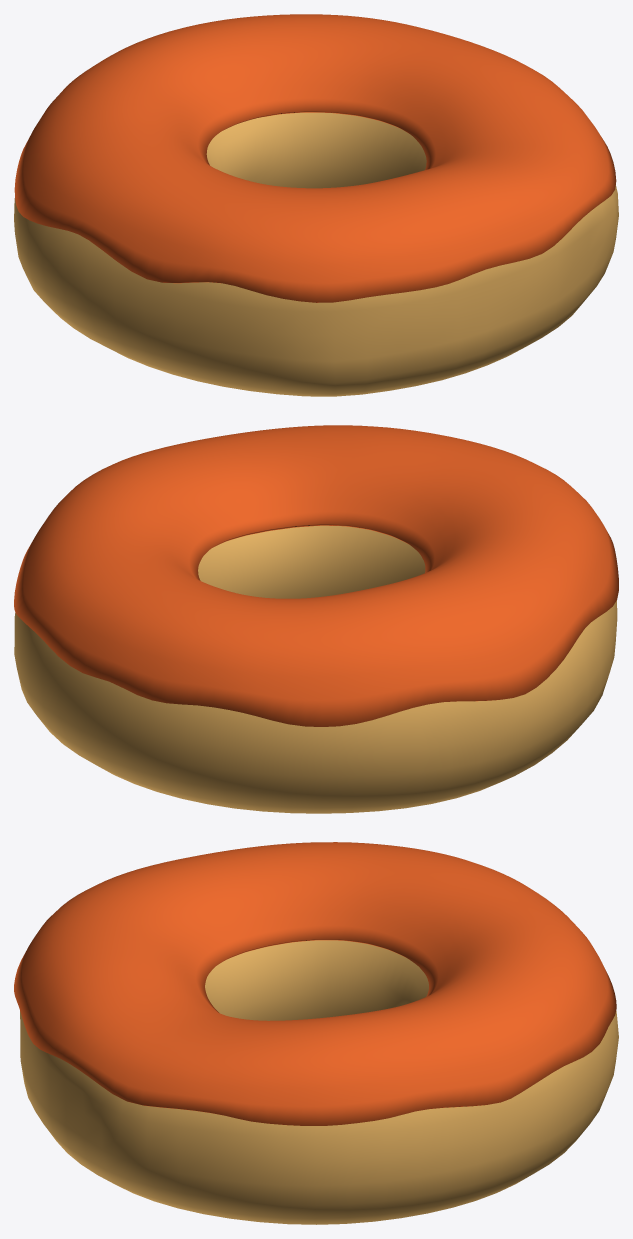
The picture shows the model from 3 angles, top to bottom: view 1: azimuth 30°, elevation 25°; view 2: azimuth 150°, elevation 25°; view 3: azimuth 270°, elevation 25°; orthographic projection. The views are drawn at different scales.
Parts seen in each view (by area): view 1: Object_4; view 2: Object_4; view 3: Object_4.
Part boxes in pixels (x1=…): Object_4: x1=14, y1=14, x2=618, y2=396; Object_4: x1=14, y1=425, x2=618, y2=813; Object_4: x1=14, y1=842, x2=618, y2=1224.
Size of the model in its own units: 59.11 by 21.49 by 59.62.
